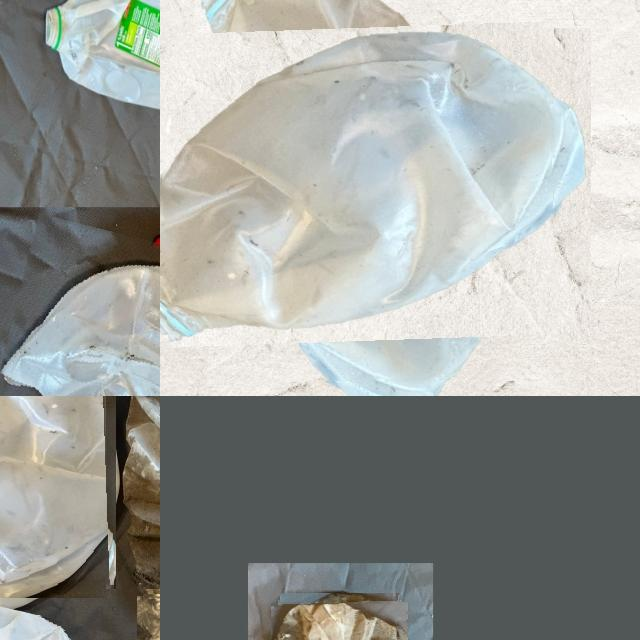milk-jug: (160, 0, 556, 383), (0, 223, 160, 396), (0, 396, 113, 595), (275, 596, 405, 640)
